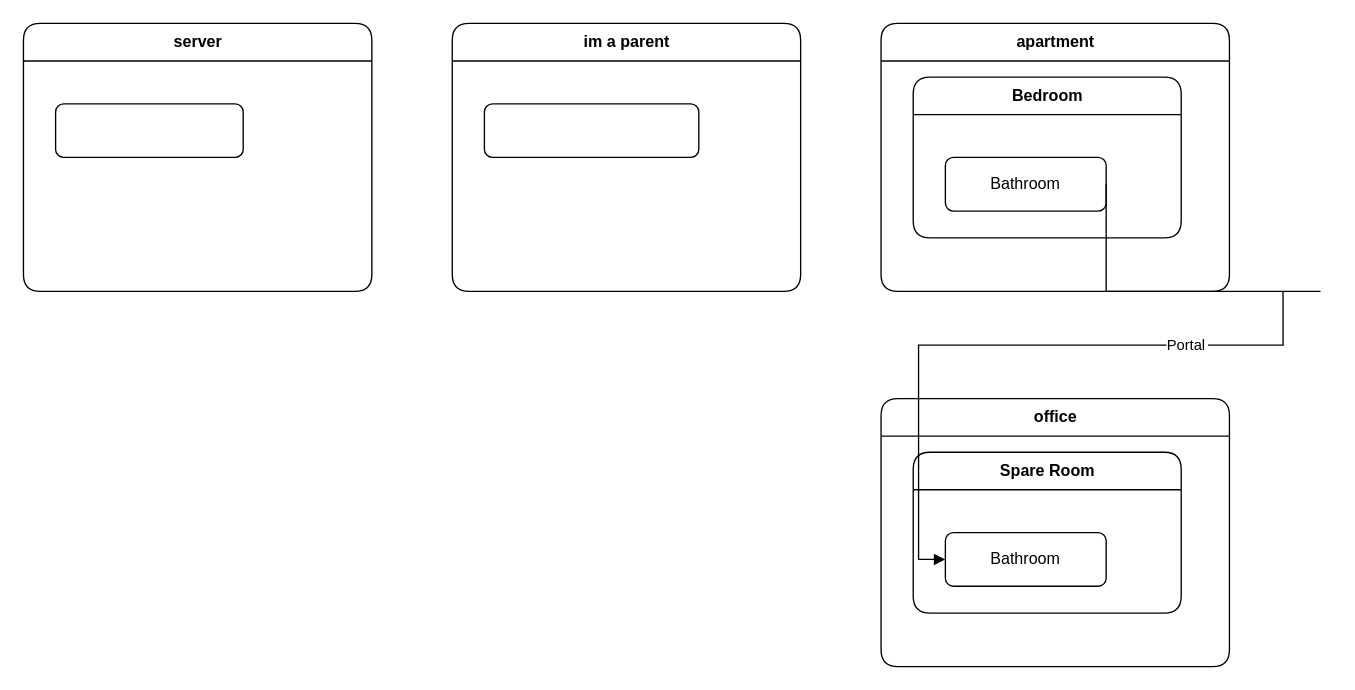
The diagram is 1355 pixels wide and 690 high, and some of its shapes have lost their labels. Here are the shapes that lost their labels. From the top down, the centre of each, then its label:
At point (148, 130): "process".
At point (591, 130): "im a child".
